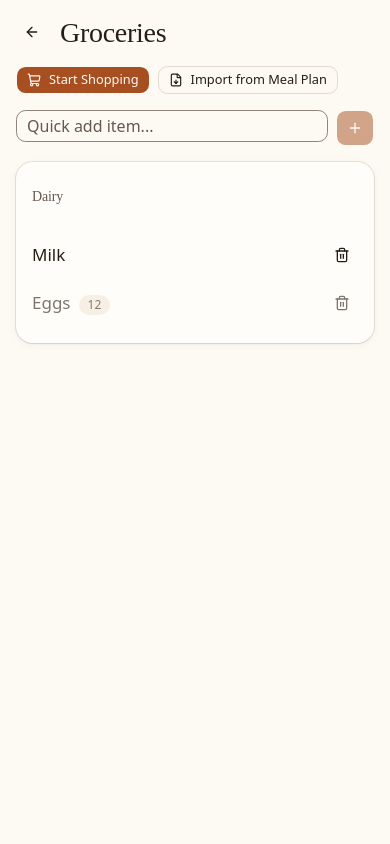
Test: ShoppingListDetailPage — sticky mobile bottom bar › opens the finish-confirmation dialog when mobile Finish Shopping is tapped
Step 1. Click the button "Start Shopping" → click(83, 80), box [16,66,150,94]
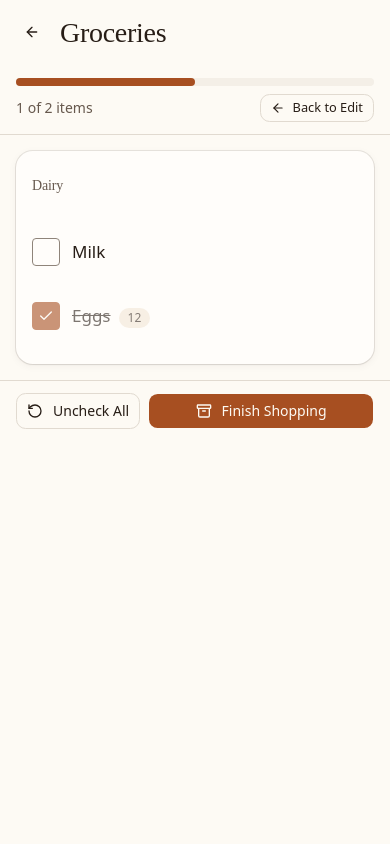
Step 2. Click the button "Finish Shopping" → click(261, 411), box [148,393,374,429]
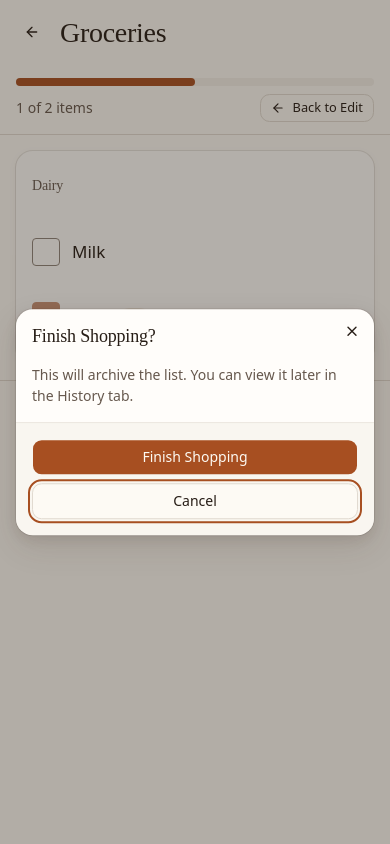
Expected: the heading "Finish Shopping?" is shown, [32,326,156,346]
